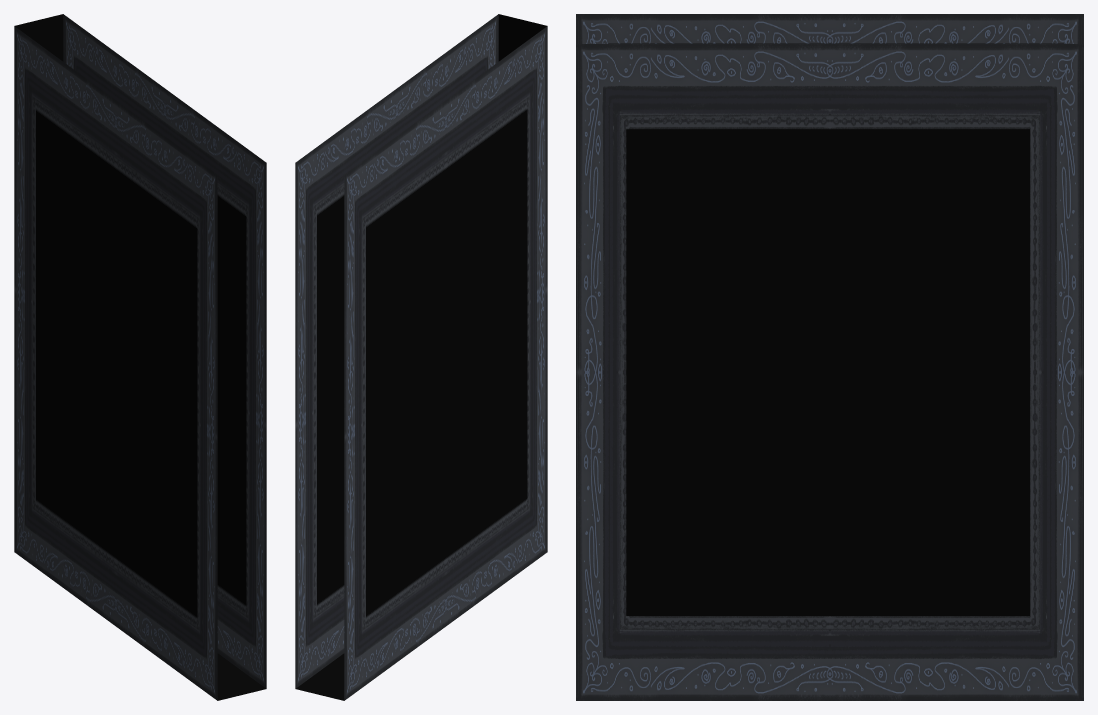
The model's file is AI_goose._rahmenglb.glb.
The picture shows the model from 3 angles, left to right: view 1: azimuth 30°, elevation 25°; view 2: azimuth 150°, elevation 25°; view 3: azimuth 270°, elevation 25°; orthographic projection. The views are drawn at different scales.
Visible parts, largest first — view 1: 2D_Bilderrahmen_dark.001; view 2: 2D_Bilderrahmen_dark.001; view 3: 2D_Bilderrahmen_dark.001.
Boxes of the visible parts, x1,y1,x2,y2 form: 2D_Bilderrahmen_dark.001: [14, 14, 266, 700]; 2D_Bilderrahmen_dark.001: [295, 14, 547, 700]; 2D_Bilderrahmen_dark.001: [576, 14, 1083, 700].
Size of the model in its own units: 0.4417 by 4.53 by 3.17.
3 materials, 1 textured.
